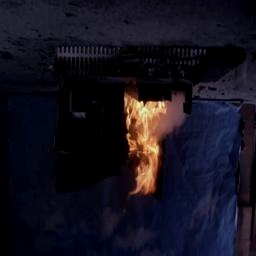fire: (119, 91, 175, 205)
